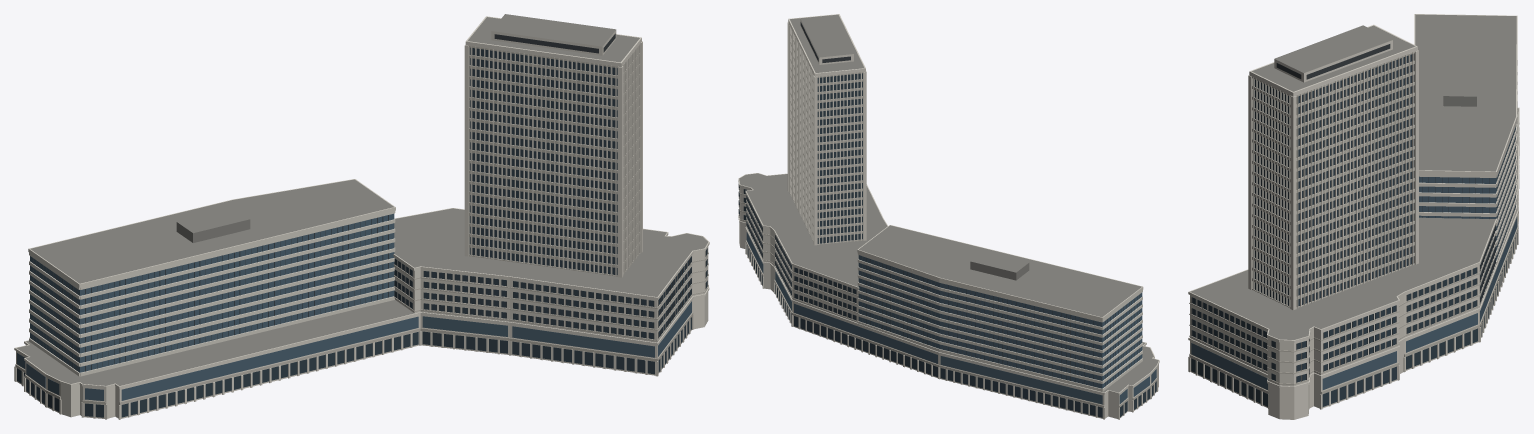
File: hilton_london_metropole.glb
3 views of the same model, side by side, from view 1: azimuth 30°, elevation 25°; view 2: azimuth 150°, elevation 25°; view 3: azimuth 270°, elevation 25° (orthographic). The views are drawn at different scales.
Bounding box in the file's own units: 185 × 91.8 × 89.02.
